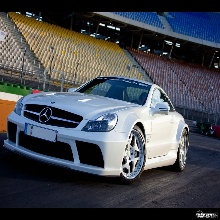no damage: (3, 75, 190, 183)
